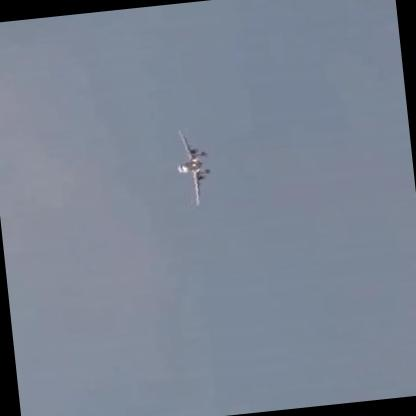plane: (171, 122, 219, 206)
